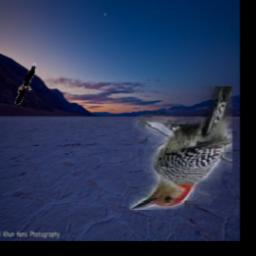Crow: (15, 64, 37, 106)
Woodpecker: (130, 86, 233, 210)
